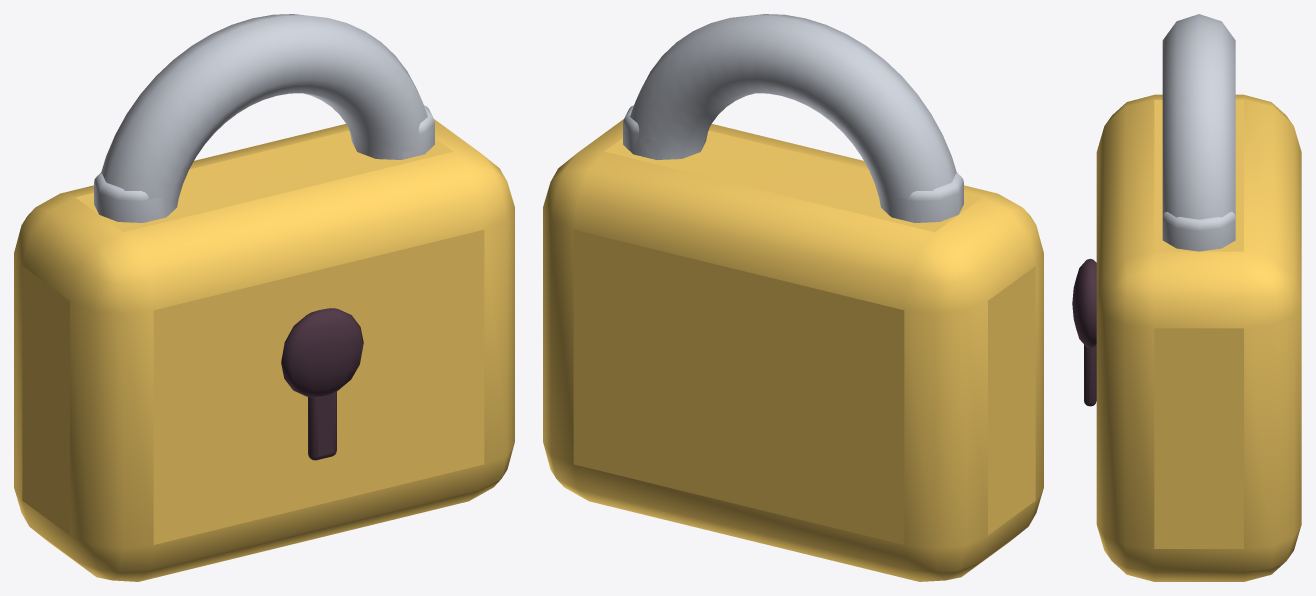
Rendered from lock.glb.
3 renders of one model, left to right at view 1: azimuth 30°, elevation 25°; view 2: azimuth 150°, elevation 25°; view 3: azimuth 270°, elevation 25°, orthographic. The views are drawn at different scales.
Visible parts, largest first — view 1: body, cc9ced8, c4b3442; view 2: body, cc9ced8; view 3: body, cc9ced8, c4b3442.
Boxes of the visible parts, <box> form: body: <box>14,119,514,581</box>; cc9ced8: <box>94,14,434,222</box>; c4b3442: <box>281,308,363,460</box>; body: <box>543,119,1043,581</box>; cc9ced8: <box>623,14,963,222</box>; body: <box>1096,94,1301,581</box>; cc9ced8: <box>1162,14,1235,251</box>; c4b3442: <box>1072,258,1096,406</box>.
Bounding box in the file's own units: 0.74 × 0.81 × 0.358.
